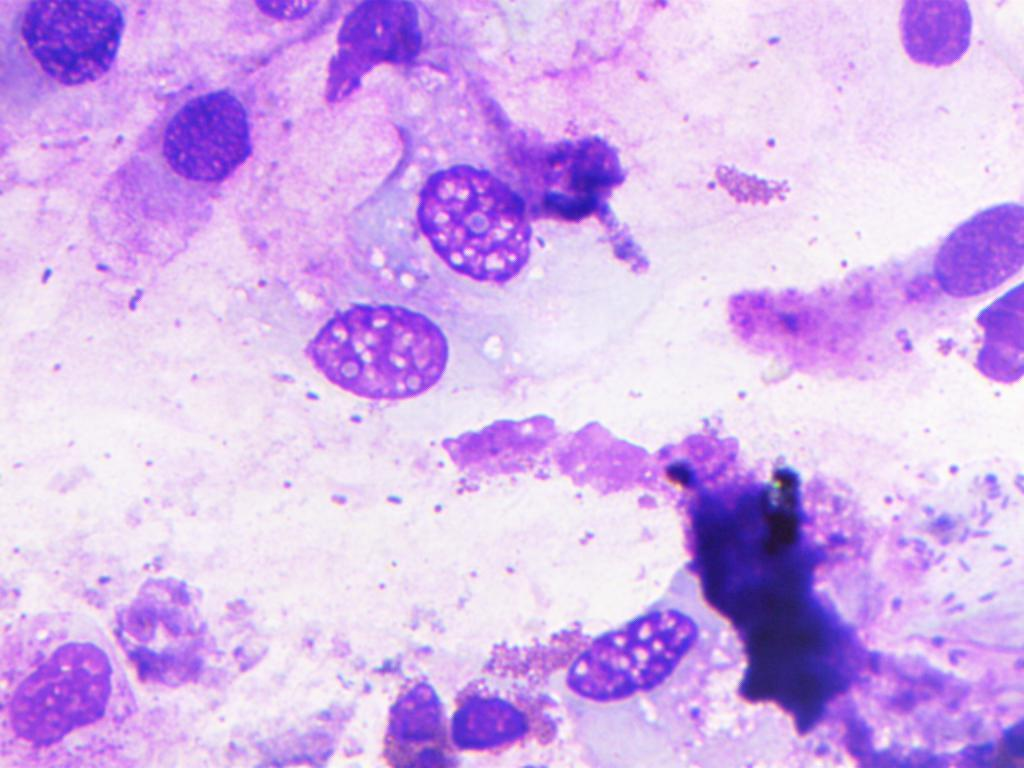eosinophil: (526, 118, 660, 226), (448, 670, 567, 768), (371, 674, 468, 768)
epithelial: (74, 80, 267, 319), (336, 125, 551, 289), (293, 290, 461, 417), (560, 610, 723, 716), (0, 642, 116, 742), (10, 0, 122, 87), (932, 201, 1024, 300), (967, 281, 1024, 390), (899, 0, 974, 69)
